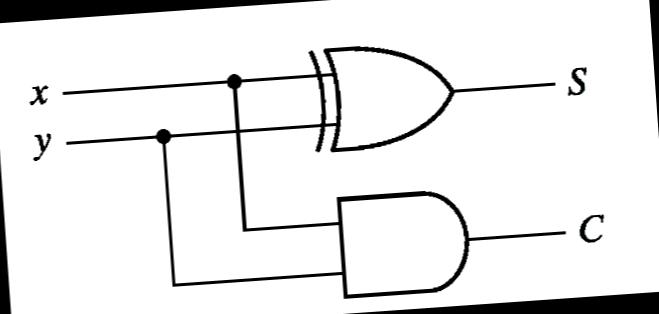and: (324, 181, 478, 305)
xor: (286, 30, 483, 160)
